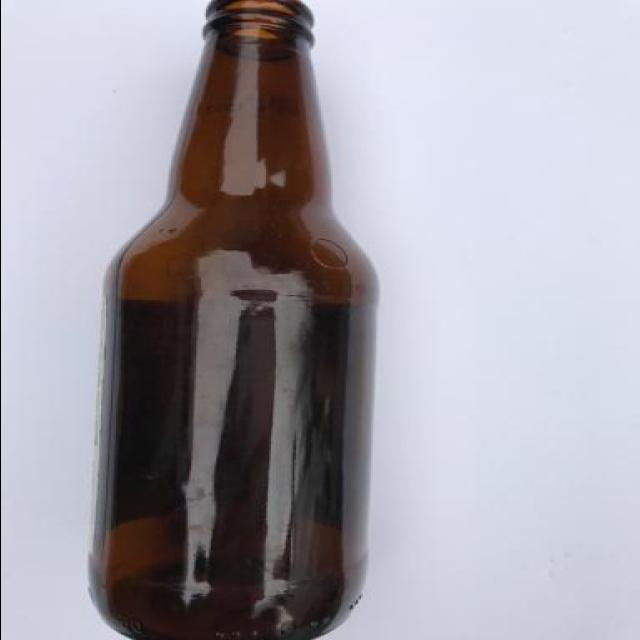glass: (62, 2, 440, 640)
